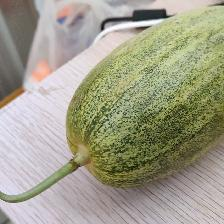gua: (99, 64, 201, 164)
